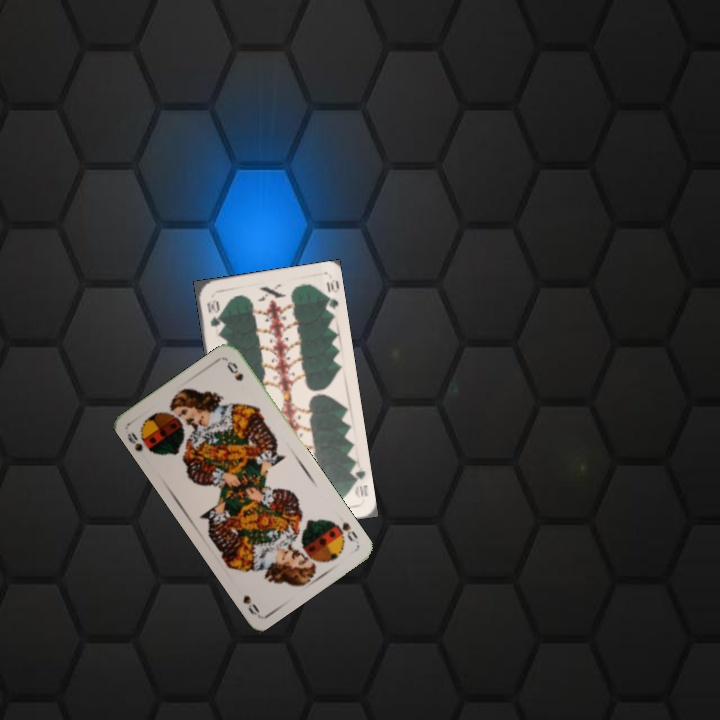G10: (347, 462, 370, 500), (203, 295, 223, 330)
SO: (123, 429, 158, 456), (329, 516, 360, 545)
